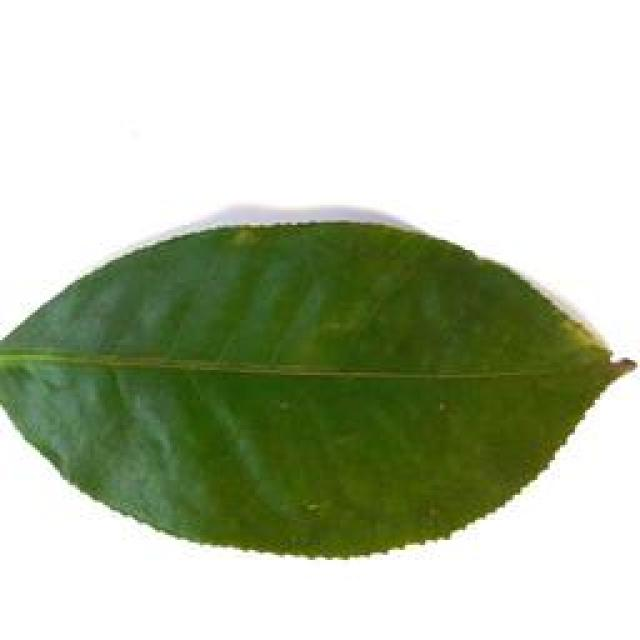Healthy: (0, 195, 640, 578)
